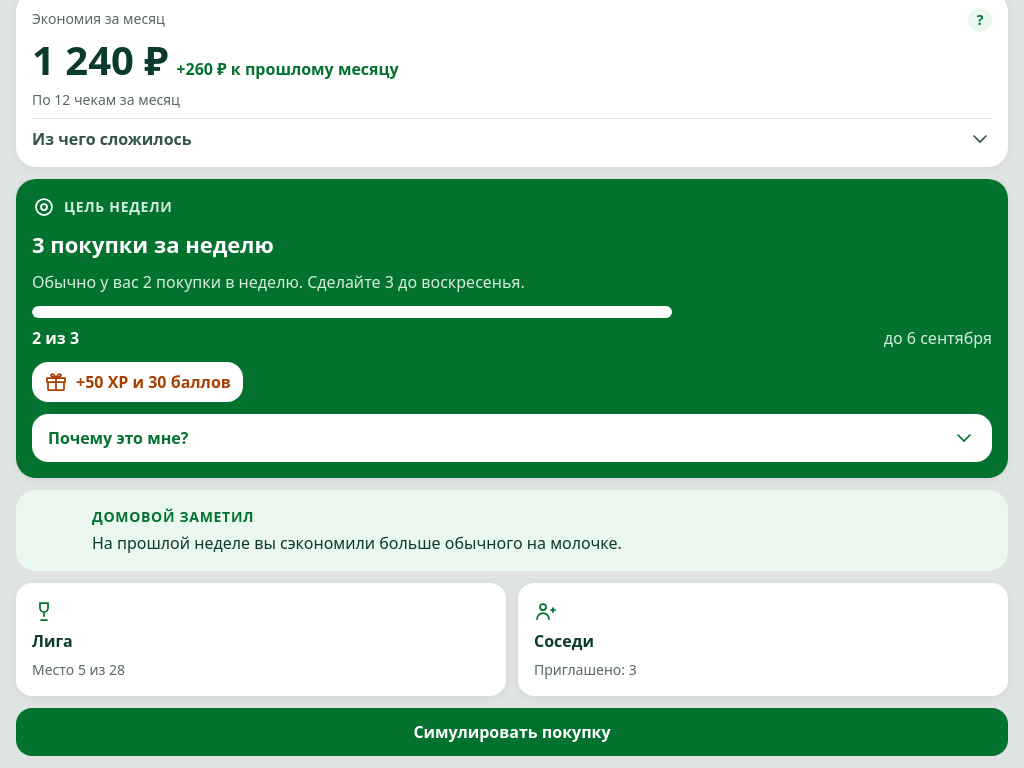
Scenario: ReceiptSheet › пустой чек нельзя подтвердить
(page scrolled)
expect the text "2 из 3" is shown: met, box x1=32 y1=326 x2=79 y2=350
Click the button "Симулировать покупку" at (512, 732), box x1=16 y1=708 x2=1008 y2=756
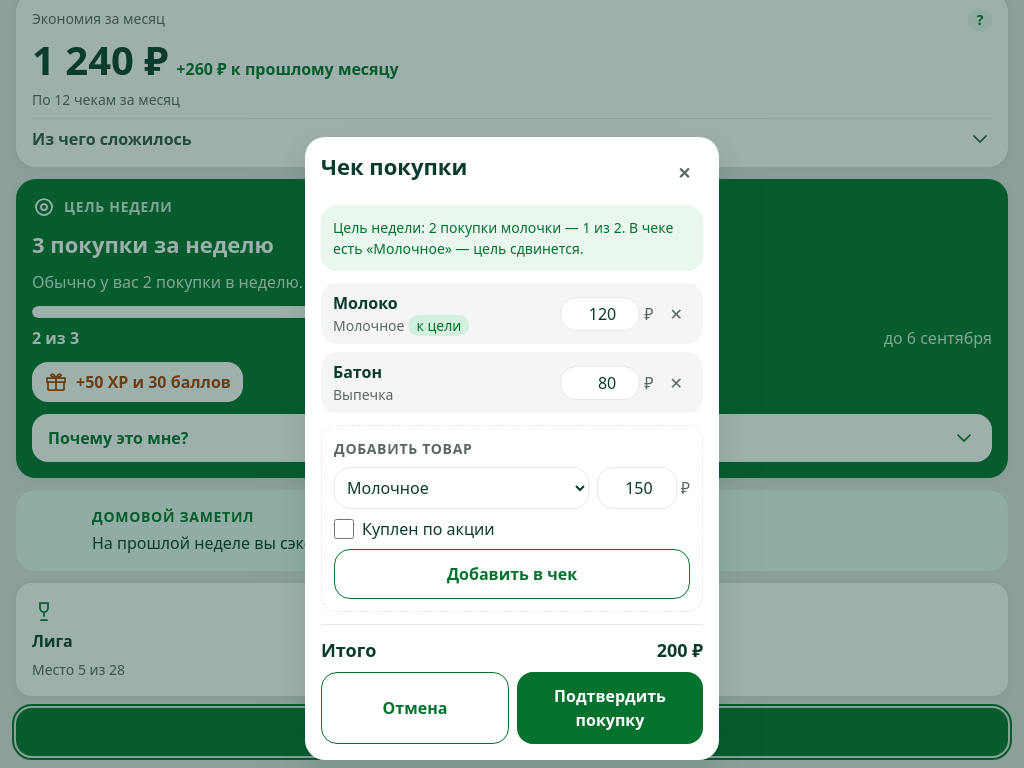
Click the button named "Удалить: Молоко" at (676, 314), box x1=662 y1=298 x2=691 y2=330
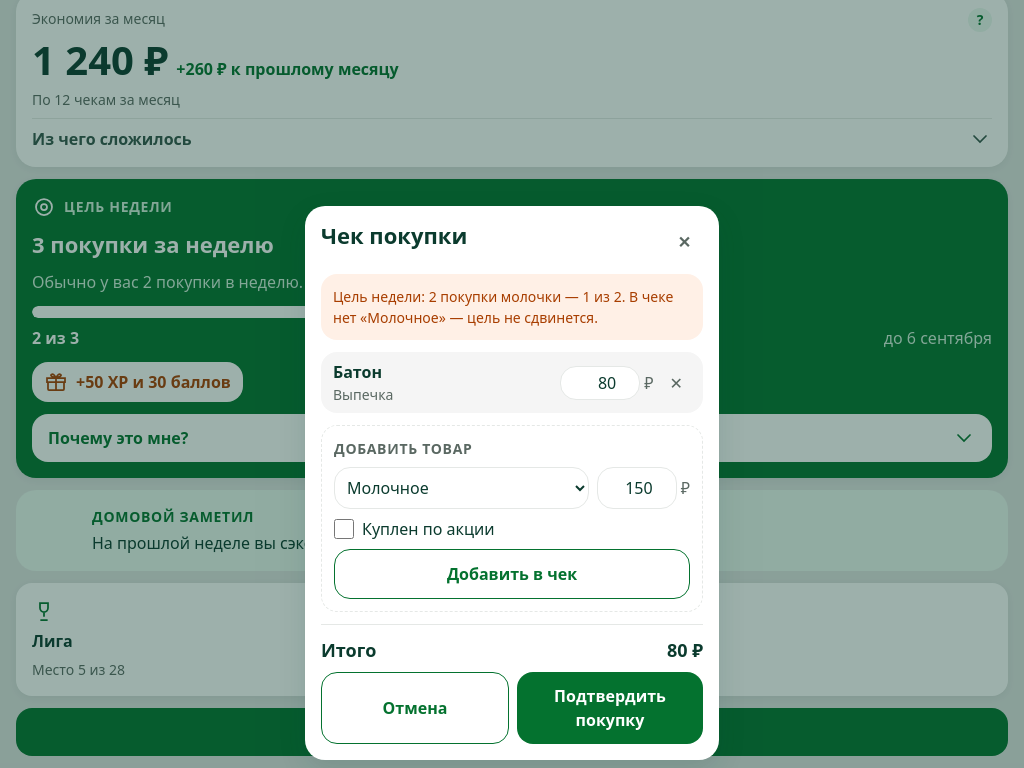
Click the button named "Удалить: Батон" at (676, 382), box x1=662 y1=366 x2=691 y2=398
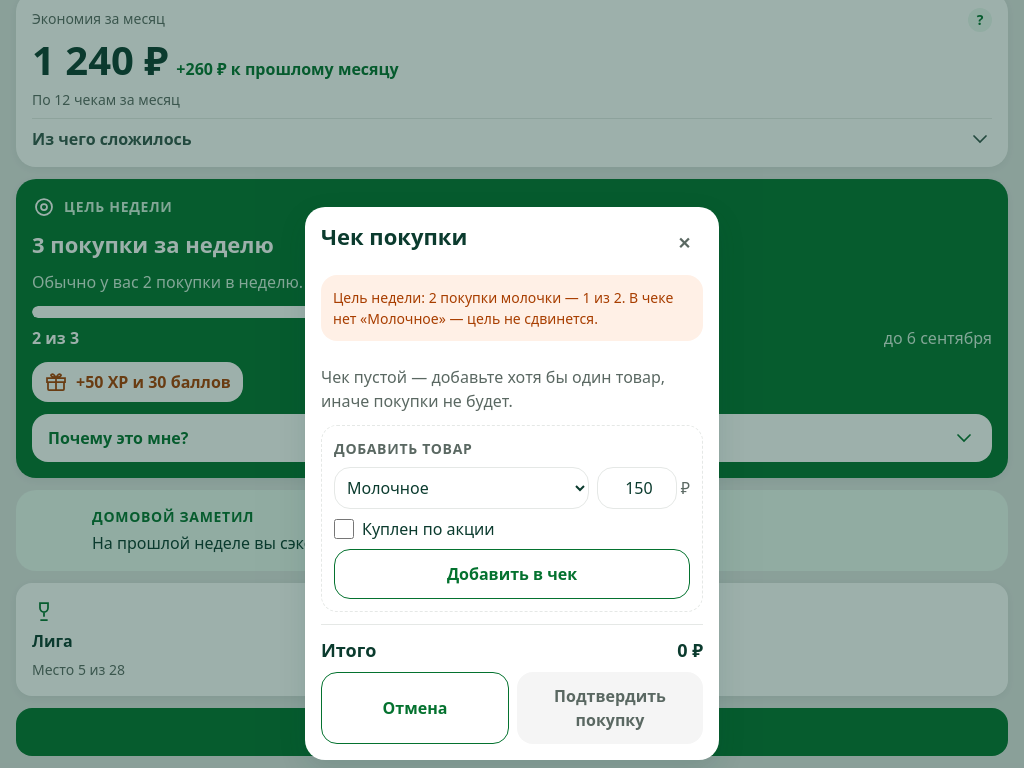
expect the button "Подтвердить покупку" is disabled: met, box x1=517 y1=672 x2=703 y2=744
expect the text "Чек пустой" is shown: met, box x1=321 y1=366 x2=665 y2=412
